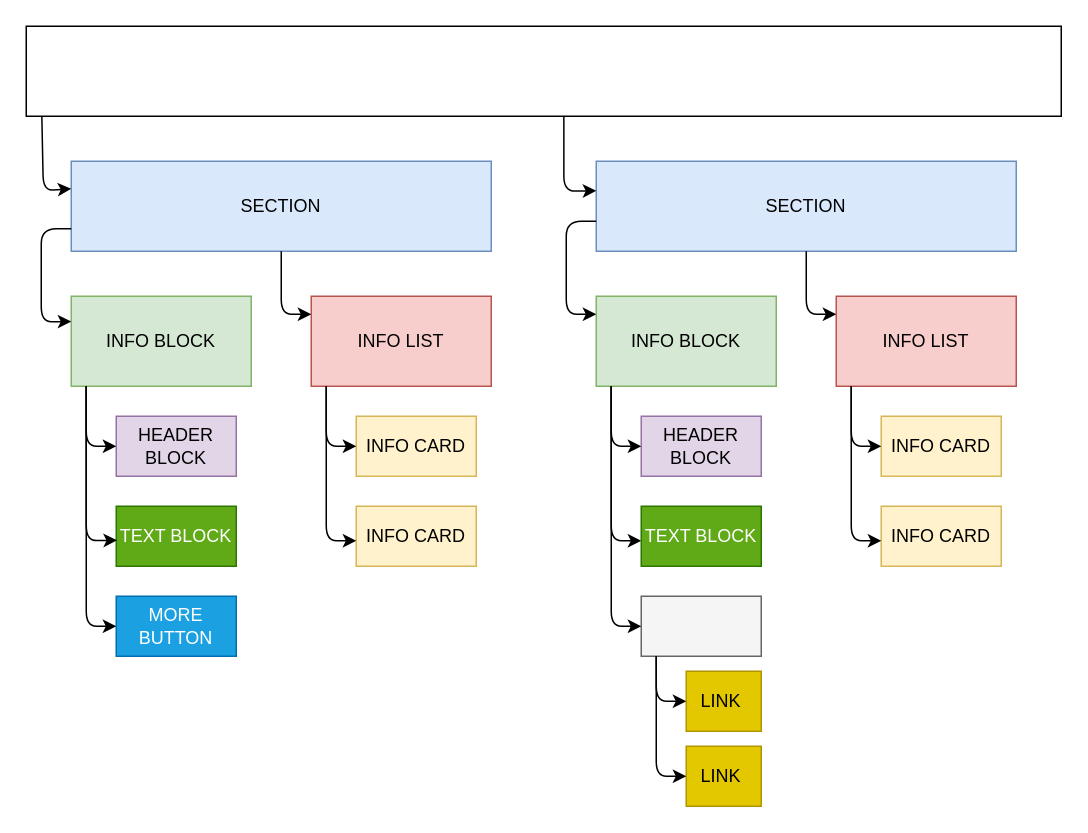
The diagram is 1088 pixels wide and 833 high, and some of its shapes have lost their labels. Here are the shapes that lost their labels. From the top down, the centre of each, then its label:
At point (543, 70): "APP".
At point (700, 625): "LINKS LIST".
